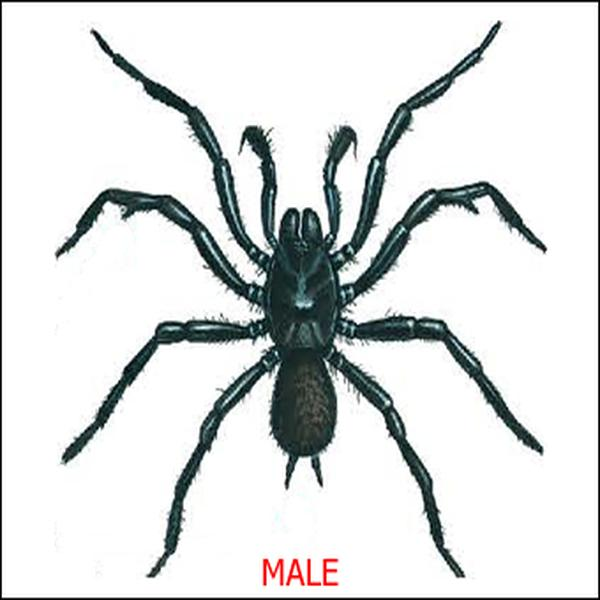Funnel Web Spider: (75, 26, 543, 560)
